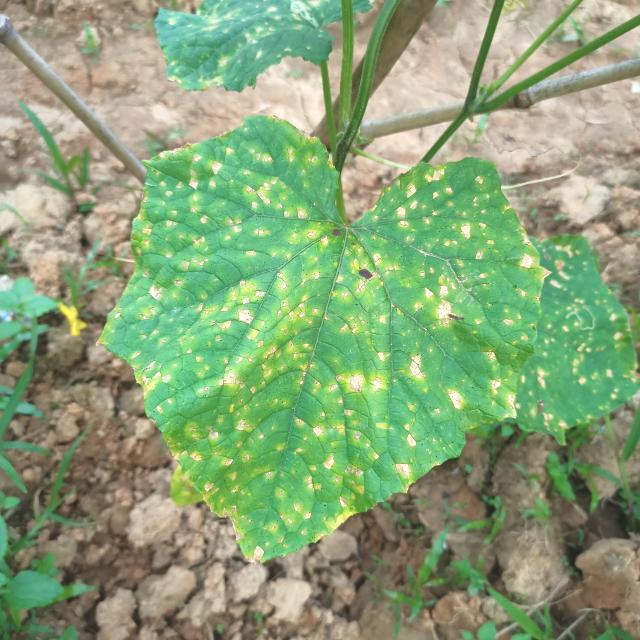disease_cucumber: (119, 147, 514, 538), (513, 235, 638, 434)
